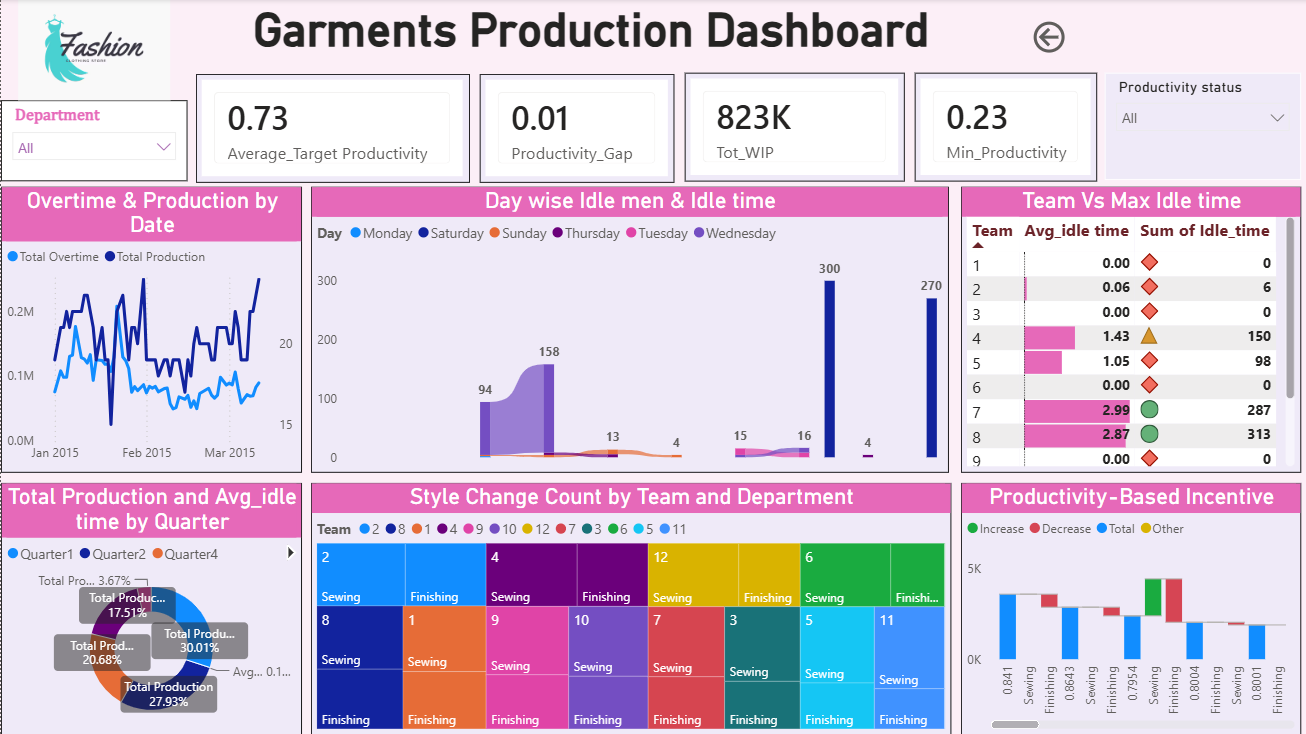

What the dashboard file says about the page in this screenshot:
{"tool":"powerbi","page":{"name":"Dashboard 2","canvas":[1280,720],"ordinal":4},"visuals":[{"type":"textbox","title":"Garments Production Dashboard","box":[182.2,8.6,791.2,57.5],"z":0},{"type":"slicer","fields":{"Values":["Garments_Prod_DB.Department"]},"box":[0,99,182.2,79.5],"z":1000},{"type":"image","box":[0,0,182.2,99],"z":2000},{"type":"ribbonChart","title":"Day wise Idle men & Idle time","fields":{"Category":["Garments_Prod_DB.Idle_men"],"Y":["Sum(Garments_Prod_DB.Idle_time)"],"Series":["Garments_Prod_DB.Day"]},"box":[303.3,183.4,623.6,280],"z":3000},{"type":"pivotTable","title":"Team Vs Max Idle time","fields":{"Rows":["Garments_Prod_DB.Team"],"Values":["Measures table.Avg_idle time","Sum(Garments_Prod_DB.Idle_time)"]},"box":[939.1,183.4,332.6,280],"z":4000},{"type":"lineChart","title":"Overtime & Production by Date","fields":{"Category":["Garments_Prod_DB.Date"],"Y":["Measures table.Total Overtime"],"Y2":["Measures table.Total Production"]},"box":[0,183.4,294.7,280],"z":5000},{"type":"treemap","title":"Style Change Count by Team and Department","fields":{"Group":["Garments_Prod_DB.Team","Garments_Prod_DB.Quarter"],"Details":["Garments_Prod_DB.Department"],"Values":["CountNonNull(Garments_Prod_DB.No_of_style_change)"]},"box":[303.3,473.2,626.1,247],"z":6000},{"type":"waterfallChart","title":"Productivity-Based Incentive","fields":{"Breakdown":["Garments_Prod_DB.Department"],"Y":["Measures table.Tot_Incentive"],"Category":["Garments_Prod_DB.Actual_productivity"]},"box":[939.1,473.2,332.6,247],"z":7000},{"type":"donutChart","fields":{"Category":["Garments_Prod_DB.Quarter"],"Y":["Measures table.Total Production","Measures table.Avg_idle time"]},"box":[0,473.2,294.7,247],"z":8000},{"type":"cardVisual","fields":{"Data":["Measures table.Average_Target Productivity"]},"box":[190.8,73.4,267.8,106.4],"z":9000},{"type":"cardVisual","fields":{"Data":["Measures table.Productivity_Gap"]},"box":[468.3,73.4,190.8,106.4],"z":10000},{"type":"cardVisual","fields":{"Data":["Measures table.Tot_WIP"]},"box":[668.9,72.1,215.2,106.4],"z":11000},{"type":"cardVisual","fields":{"Data":["Measures table.Min_Productivity"]},"box":[893.9,72.1,178.5,106.4],"z":12000},{"type":"slicer","title":"Productivity status","fields":{"Values":["Garments_Prod_DB.Productivity status"]},"box":[1079.8,72.1,192,105.2],"z":13000},{"type":"actionButton","box":[1005.2,17.1,100.3,40.4],"z":14000}]}

Visuals, with their boxes in screenshot pixels (x1, y1, x2, y2), scaled from the page's 1280x720 canvas onto the 1306x734 screenshot:
"Garments Production Dashboard" textbox: [left=186, top=9, right=993, bottom=67]
slicer - Garments_Prod_DB.Department: [left=0, top=101, right=186, bottom=182]
image: [left=0, top=0, right=186, bottom=101]
"Day wise Idle men & Idle time" ribbonChart: [left=309, top=187, right=946, bottom=472]
"Team Vs Max Idle time" pivotTable: [left=958, top=187, right=1298, bottom=472]
"Overtime & Production by Date" lineChart: [left=0, top=187, right=301, bottom=472]
"Style Change Count by Team and Department" treemap: [left=309, top=482, right=948, bottom=733]
"Productivity-Based Incentive" waterfallChart: [left=958, top=482, right=1298, bottom=733]
donutChart - Garments_Prod_DB.Quarter x Measures table.Total Production: [left=0, top=482, right=301, bottom=733]
cardVisual - Measures table.Average_Target Productivity: [left=195, top=75, right=468, bottom=183]
cardVisual - Measures table.Productivity_Gap: [left=478, top=75, right=672, bottom=183]
cardVisual - Measures table.Tot_WIP: [left=682, top=74, right=902, bottom=182]
cardVisual - Measures table.Min_Productivity: [left=912, top=74, right=1094, bottom=182]
"Productivity status" slicer: [left=1102, top=74, right=1298, bottom=181]
actionButton: [left=1026, top=17, right=1128, bottom=59]
